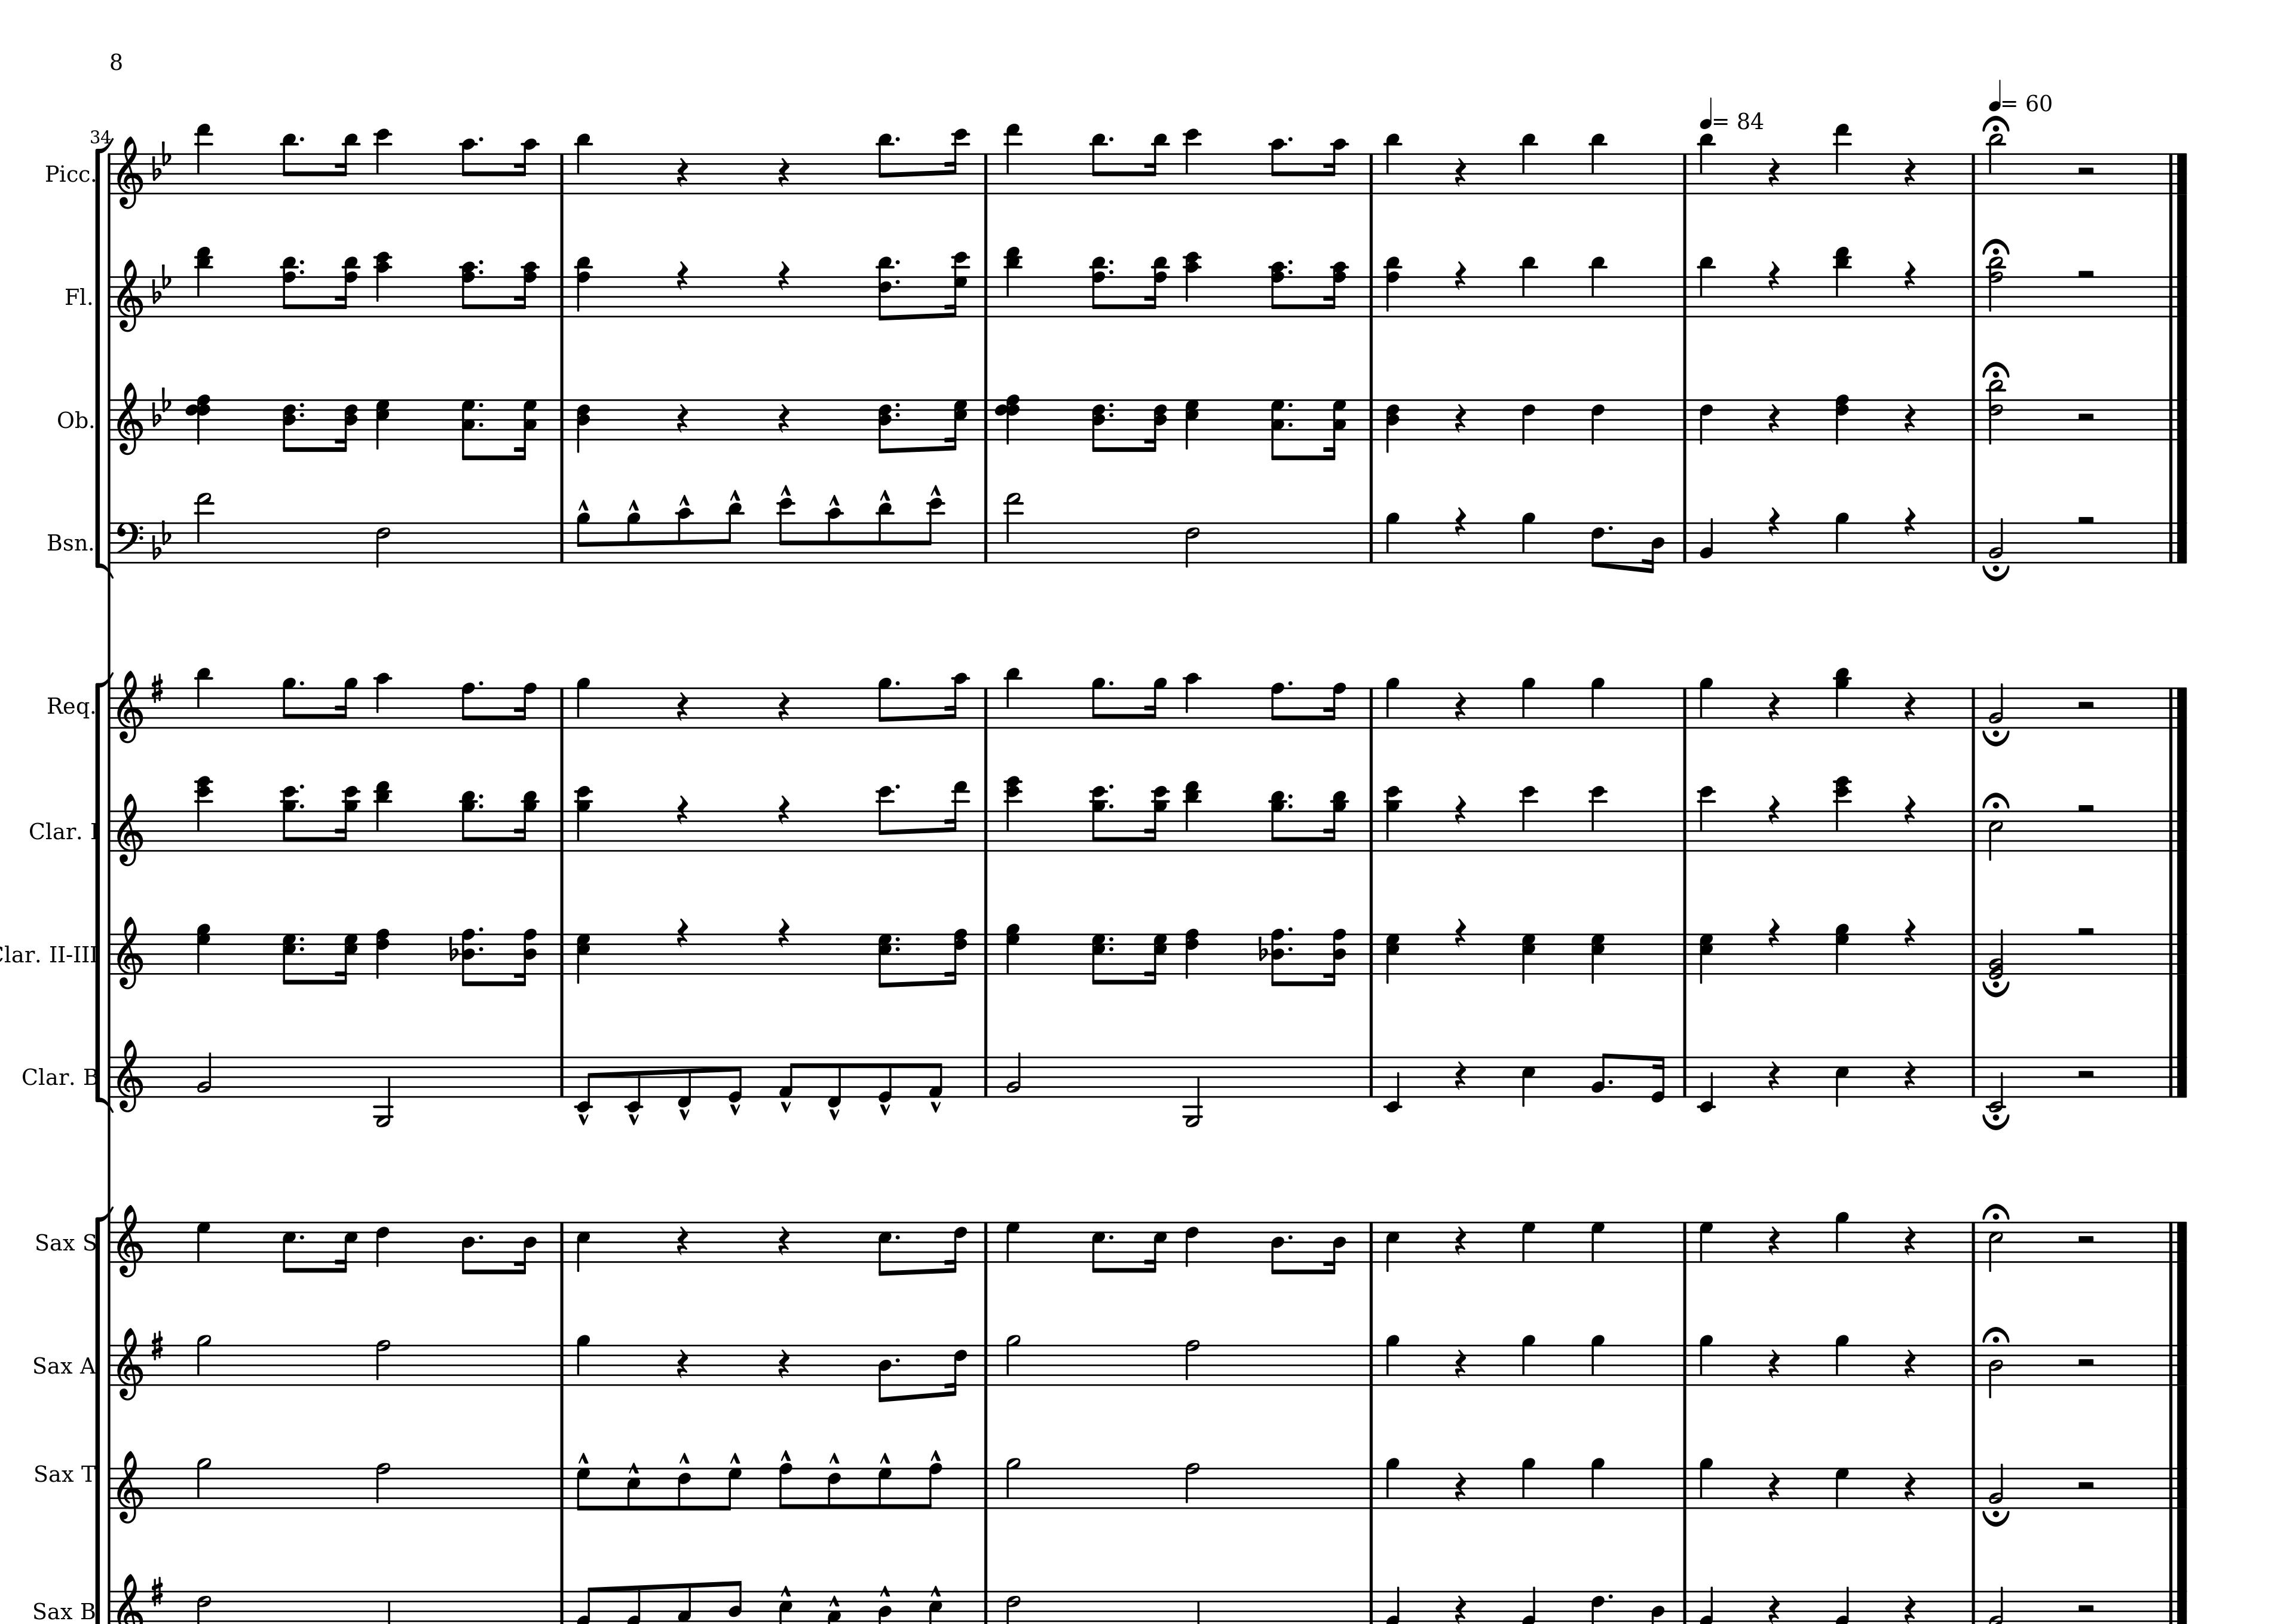0: (2040, 91, 2054, 112)
16_0: (1650, 1055, 1667, 1102)
16_10: (945, 671, 968, 729), (515, 137, 536, 195), (1325, 137, 1346, 195)
16_11: (1144, 132, 1168, 195), (336, 132, 358, 195)
16_11_13: (515, 791, 541, 852)
16_12: (945, 127, 968, 195)
16_13: (945, 779, 968, 852)
16_3_7: (513, 399, 539, 460), (1323, 399, 1347, 460)
16_4: (515, 1220, 536, 1274), (1325, 1220, 1346, 1274), (1644, 520, 1664, 573)
16_4_6: (334, 399, 358, 452), (1144, 399, 1168, 452)
16_4_8: (513, 928, 539, 988), (1323, 928, 1347, 986)
16_5: (336, 1220, 358, 1272), (1144, 1220, 1166, 1272)
16_5_7: (943, 397, 968, 452), (1144, 933, 1168, 984), (336, 933, 360, 984)
16_6: (945, 1341, 966, 1396), (945, 1220, 966, 1272)
16_6_8: (943, 928, 968, 984)
16_8: (513, 680, 536, 729), (1323, 680, 1346, 728)
16_8_10: (1323, 260, 1349, 318), (515, 262, 541, 318)
16_8_11: (1144, 257, 1168, 320), (336, 257, 358, 318)
16_9: (334, 675, 357, 729), (1144, 675, 1166, 729)
16_9_11: (1323, 789, 1349, 852)
16_9_12: (1144, 786, 1172, 852), (945, 250, 970, 318), (336, 786, 360, 852)
2_-2: (1987, 1053, 2004, 1109)
2_-5: (372, 1056, 395, 1128), (1182, 1055, 1203, 1127)
2_0_2: (1987, 928, 2006, 981)
2_11: (1987, 134, 2004, 195)
2_13: (195, 490, 213, 564)
2_2: (195, 1049, 213, 1098), (1005, 1049, 1022, 1098), (1987, 515, 2004, 562), (1987, 680, 2004, 728), (1987, 1461, 2004, 1508)
2_4: (1987, 1343, 2003, 1397)
2_5: (1987, 808, 2003, 861), (1987, 1222, 2003, 1271)
2_6: (1184, 520, 1200, 568), (376, 520, 390, 568)
2_6_11: (1987, 380, 2008, 445)
2_8: (374, 1459, 392, 1510), (374, 1338, 392, 1387), (1184, 1459, 1200, 1510), (1184, 1338, 1200, 1385)
2_8_11: (1985, 257, 2006, 318)
2_9: (195, 1455, 213, 1510), (195, 1332, 213, 1385), (1005, 1332, 1021, 1385), (1005, 1457, 1021, 1508)
4: (1750, 111, 1764, 130), (98, 127, 111, 144)
4_-2: (1384, 1053, 1402, 1113), (1697, 1055, 1715, 1113)
4_10: (374, 671, 392, 729), (1184, 671, 1200, 729)
4_10_12: (372, 250, 393, 318), (1182, 251, 1203, 318)
4_11: (574, 132, 592, 195), (1520, 132, 1537, 195), (1588, 132, 1606, 195), (1697, 132, 1715, 195), (1520, 255, 1537, 318), (1588, 255, 1606, 318), (1697, 255, 1715, 318), (195, 664, 211, 729), (1384, 132, 1400, 195), (1005, 666, 1021, 729)
4_11_13: (193, 244, 214, 318), (1832, 246, 1853, 318), (372, 780, 393, 852), (1003, 246, 1024, 316), (1184, 780, 1202, 852)
4_12: (1182, 128, 1202, 195), (374, 128, 392, 195), (1520, 786, 1537, 852), (1697, 786, 1715, 852), (1590, 786, 1606, 852)
4_12_14: (1001, 773, 1024, 852), (193, 775, 214, 852), (1834, 775, 1853, 852)
4_13: (1834, 121, 1852, 195), (1005, 490, 1022, 564), (1005, 123, 1022, 195), (195, 121, 211, 195)
4_2: (1699, 515, 1715, 564)
4_4_6: (576, 397, 592, 453), (1386, 397, 1400, 453)
4_5: (1520, 1055, 1535, 1109), (1834, 1055, 1850, 1109), (1384, 1220, 1400, 1272), (576, 1220, 590, 1272)
4_5_7: (374, 397, 392, 450), (1520, 933, 1537, 986), (1590, 933, 1607, 984), (1697, 932, 1713, 984), (1184, 399, 1200, 450), (1384, 932, 1400, 982), (574, 933, 590, 984)
4_6: (1697, 397, 1715, 445), (1520, 397, 1535, 445), (1590, 397, 1606, 445), (374, 1220, 390, 1267), (1184, 1220, 1198, 1267)
4_6_8: (1834, 394, 1852, 445), (1184, 928, 1200, 981), (374, 928, 390, 979)
4_7: (1520, 1220, 1537, 1262), (1697, 1220, 1715, 1262), (195, 1220, 211, 1264), (1005, 1220, 1021, 1264), (1590, 1220, 1606, 1264), (1834, 1466, 1850, 1508)
4_7_9: (1005, 923, 1022, 975), (1836, 923, 1850, 977), (197, 923, 211, 975)
4_8_11: (574, 255, 592, 318), (1384, 255, 1402, 318)
4_9: (1384, 510, 1400, 564), (1834, 510, 1850, 564), (1520, 675, 1535, 729), (1834, 1332, 1850, 1387), (1520, 510, 1535, 562), (1384, 675, 1400, 728), (1590, 675, 1606, 728), (1834, 1211, 1850, 1264), (1384, 1332, 1400, 1385), (1520, 1455, 1535, 1508), (576, 675, 590, 729), (1521, 1332, 1535, 1387), (1590, 1332, 1604, 1387), (1699, 675, 1713, 728), (576, 1332, 590, 1385), (1699, 1332, 1713, 1385), (1386, 1455, 1400, 1508), (1590, 1455, 1604, 1508), (1699, 1455, 1713, 1508)
4_9_10: (1384, 784, 1404, 852)
4_9_11: (1832, 666, 1853, 729)
4_9_12: (574, 786, 594, 852)
4_th: (186, 394, 213, 445)
6: (2025, 93, 2040, 112)
8: (109, 51, 123, 70), (1737, 111, 1750, 130), (90, 127, 100, 144)
8_-1: (676, 1055, 692, 1107), (826, 1055, 841, 1107)
8_-2: (574, 1055, 596, 1111), (624, 1055, 641, 1111)
8_0: (877, 1055, 894, 1102), (727, 1055, 743, 1102)
8_1: (778, 1055, 798, 1097), (928, 1055, 943, 1097)
8_10: (675, 508, 692, 564), (826, 508, 843, 564), (460, 137, 476, 195), (1270, 137, 1286, 195)
8_11: (720, 503, 743, 564), (877, 130, 894, 197), (281, 130, 297, 195), (1091, 132, 1107, 195), (877, 503, 892, 564)
8_12: (921, 496, 943, 564), (877, 784, 894, 852), (776, 497, 794, 564)
8_2: (1590, 1051, 1609, 1097)
8_3_7: (1270, 399, 1286, 462), (462, 397, 476, 462)
8_4: (877, 1343, 892, 1403), (460, 1220, 474, 1274), (1270, 1220, 1284, 1274)
8_4_6: (1091, 399, 1107, 453), (878, 399, 892, 453)
8_4_8: (1270, 928, 1286, 988), (460, 928, 476, 988)
8_5: (877, 1220, 892, 1278), (281, 1220, 295, 1272), (1091, 1220, 1105, 1272), (625, 1468, 641, 1512)
8_5_7: (877, 933, 894, 988), (1091, 933, 1108, 984), (281, 933, 297, 984)
8_6: (676, 1466, 692, 1512), (826, 1466, 841, 1510), (1590, 520, 1604, 568)
8_6_11: (875, 257, 892, 322)
8_6_8: (281, 399, 297, 453)
8_7: (720, 1466, 743, 1512), (576, 1466, 592, 1512), (877, 1466, 892, 1510)
8_8: (921, 1461, 942, 1510), (460, 682, 476, 729), (1270, 682, 1284, 729), (778, 1462, 792, 1510)
8_8_10: (458, 260, 478, 318), (1268, 260, 1288, 318)
8_8_11: (279, 255, 299, 318), (1089, 255, 1108, 318)
8_9: (281, 675, 297, 729), (574, 511, 590, 564), (625, 511, 641, 564), (877, 677, 892, 729), (1091, 675, 1105, 729)
8_9_11: (460, 789, 480, 854), (1268, 789, 1288, 852)
8_9_12: (1089, 784, 1108, 852), (279, 786, 299, 852)
B_F: (149, 139, 172, 181), (149, 385, 170, 425), (151, 518, 172, 559), (151, 262, 170, 302)
Bracke: (90, 678, 114, 1100), (93, 1206, 118, 1620), (95, 139, 114, 578)
Bsn: (47, 531, 88, 555)
Cl: (21, 1063, 47, 1088)
Fclef: (114, 520, 144, 564)
Fermata_above: (1980, 1200, 2011, 1222), (1980, 562, 2013, 582), (1980, 977, 2013, 997), (1980, 359, 2010, 380), (1980, 1323, 2010, 1345), (1980, 1111, 2011, 1130), (1982, 728, 2013, 745), (1980, 1508, 2011, 1526), (1982, 237, 2010, 257), (1982, 791, 2010, 810), (1980, 114, 2010, 132)
Final_barline: (2166, 684, 2187, 728), (2164, 1341, 2185, 1385), (2166, 274, 2187, 316), (2164, 520, 2185, 562), (2164, 808, 2185, 851), (2166, 932, 2187, 974), (2164, 1055, 2185, 1097), (2166, 1220, 2187, 1262), (2164, 1466, 2185, 1508), (2168, 151, 2187, 195), (2166, 397, 2185, 439), (2166, 1587, 2185, 1622)
Fl: (63, 285, 88, 306)
Flat: (448, 935, 458, 963), (1258, 935, 1268, 963)
Gclef: (114, 1448, 146, 1524), (114, 1037, 144, 1113), (116, 258, 144, 332), (116, 670, 144, 743), (116, 793, 144, 866), (116, 916, 144, 990), (116, 1204, 144, 1278), (116, 1325, 144, 1399), (116, 135, 142, 209), (116, 381, 142, 455)
Marcato_above: (576, 1450, 590, 1466), (928, 482, 942, 496), (778, 482, 792, 496), (727, 487, 741, 501), (676, 492, 690, 506), (826, 492, 840, 506), (576, 497, 590, 511), (727, 1450, 741, 1464), (727, 1102, 743, 1114), (877, 1102, 892, 1114), (826, 1106, 841, 1118), (827, 1450, 840, 1466), (878, 487, 891, 501), (778, 1098, 792, 1111), (929, 1098, 942, 1113), (676, 1107, 690, 1120), (778, 1448, 792, 1461), (678, 1450, 690, 1464), (878, 1450, 891, 1464), (627, 1459, 639, 1473), (778, 1584, 791, 1598), (627, 497, 639, 510), (929, 1448, 942, 1461), (929, 1584, 940, 1598)
Ob: (56, 406, 90, 432)
Picc: (42, 160, 93, 183)
Rec: (47, 696, 90, 717)
Rests2: (2075, 511, 2096, 526), (2075, 923, 2096, 937), (2075, 1067, 2096, 1081), (2075, 1478, 2096, 1492), (2075, 1234, 2097, 1246), (2075, 267, 2096, 279), (2075, 801, 2096, 814), (2075, 1355, 2096, 1367), (2075, 1601, 2096, 1613), (2075, 165, 2097, 176), (2075, 700, 2097, 710), (2075, 411, 2096, 422)
Rests4: (1453, 258, 1469, 292), (1453, 504, 1469, 538), (1453, 689, 1469, 722), (1765, 1223, 1781, 1257), (1453, 1346, 1469, 1380), (1453, 1469, 1469, 1503), (1765, 691, 1781, 722), (1767, 791, 1781, 826), (675, 155, 689, 188), (1453, 155, 1467, 188), (1767, 155, 1781, 188), (1903, 155, 1917, 188), (675, 258, 689, 292), (1767, 258, 1781, 292), (1453, 401, 1467, 434), (1767, 504, 1781, 538), (675, 689, 689, 722), (1903, 689, 1917, 722), (776, 793, 791, 826), (1453, 791, 1467, 824), (675, 916, 689, 949), (1453, 1058, 1467, 1091), (1903, 1058, 1917, 1091), (675, 1223, 689, 1257), (776, 1223, 791, 1257), (1453, 1223, 1467, 1257), (1903, 1223, 1917, 1257), (675, 1346, 689, 1380), (1767, 1346, 1781, 1380), (1903, 1346, 1917, 1380), (1903, 1469, 1917, 1503), (776, 156, 791, 188), (776, 258, 791, 290), (1903, 258, 1917, 290), (675, 402, 689, 434), (776, 402, 791, 434), (1767, 402, 1781, 434), (1903, 402, 1917, 434), (1903, 504, 1917, 536), (776, 691, 791, 722), (675, 793, 689, 824), (1903, 793, 1917, 824), (776, 916, 791, 947), (1453, 916, 1467, 947), (1767, 916, 1781, 947), (1903, 916, 1917, 947), (1767, 1060, 1781, 1091), (776, 1348, 791, 1380), (1767, 1471, 1781, 1503)
Sax: (33, 1230, 77, 1255), (30, 1353, 74, 1378), (33, 1462, 76, 1487), (30, 1599, 74, 1620)
Sharp: (149, 1575, 165, 1606), (149, 671, 163, 703), (149, 1329, 163, 1360)
Single_barline: (1678, 397, 1692, 439), (555, 685, 569, 728), (555, 1220, 569, 1262), (555, 1343, 569, 1385), (555, 1466, 569, 1508), (1678, 153, 1692, 193), (1966, 153, 1980, 193), (1678, 276, 1692, 316), (555, 276, 569, 316), (555, 399, 569, 439), (978, 399, 993, 439), (1966, 522, 1980, 562), (978, 687, 993, 728), (1678, 687, 1692, 728), (555, 810, 569, 851), (1678, 810, 1692, 851), (1966, 810, 1980, 851), (555, 933, 569, 974), (1678, 933, 1692, 974), (1966, 933, 1980, 974), (1966, 1056, 1980, 1097), (1678, 1222, 1692, 1262), (1363, 1345, 1377, 1385), (1678, 1345, 1692, 1385), (1678, 1468, 1692, 1508), (1363, 1468, 1377, 1508), (1967, 685, 1980, 728), (980, 1220, 993, 1262), (1365, 153, 1377, 193), (555, 153, 567, 193), (980, 153, 993, 193), (1365, 276, 1377, 316), (1967, 276, 1980, 316), (980, 276, 993, 316), (1365, 399, 1377, 439), (1967, 399, 1980, 439), (555, 522, 567, 562), (1365, 522, 1377, 562), (1678, 522, 1690, 562), (1365, 687, 1377, 728), (1365, 810, 1377, 851), (980, 810, 993, 851), (980, 933, 993, 974), (1365, 933, 1377, 974), (104, 1056, 116, 1097), (555, 1056, 567, 1097), (1365, 1056, 1377, 1097), (1678, 1056, 1690, 1097), (980, 1056, 993, 1097), (1365, 1222, 1377, 1262), (1967, 1222, 1980, 1262), (980, 1345, 993, 1385), (1967, 1345, 1980, 1385), (980, 1468, 993, 1508), (1967, 1468, 1980, 1508), (555, 1589, 569, 1624), (105, 685, 116, 728), (105, 1220, 116, 1262), (104, 276, 114, 316), (105, 810, 116, 851), (105, 933, 116, 974), (105, 1345, 116, 1385), (105, 1468, 116, 1508), (1967, 1589, 1980, 1622), (1678, 1591, 1690, 1624), (980, 522, 991, 561), (1365, 1591, 1377, 1622), (105, 153, 114, 193), (105, 399, 114, 439), (105, 522, 114, 562), (980, 1589, 991, 1622), (105, 1587, 114, 1620)
Speed4: (1699, 95, 1730, 128), (1989, 77, 2017, 111)
Staccatissimo: (827, 1592, 840, 1608), (878, 1584, 891, 1598)
dot: (1284, 800, 1295, 808), (297, 134, 306, 142), (1107, 134, 1116, 142), (297, 257, 306, 265), (892, 257, 901, 265), (297, 267, 306, 276), (476, 267, 485, 276), (1107, 267, 1116, 276), (1286, 267, 1295, 276), (892, 276, 901, 285), (476, 401, 485, 410), (1286, 401, 1295, 410), (1107, 401, 1116, 410), (297, 410, 306, 418), (476, 420, 485, 429), (1286, 420, 1295, 429), (1606, 522, 1614, 531), (297, 782, 306, 791), (1107, 782, 1116, 791), (476, 791, 485, 800), (1286, 924, 1295, 933), (476, 924, 485, 933), (297, 933, 306, 942), (892, 933, 901, 942), (1107, 933, 1116, 942), (297, 944, 306, 953), (476, 944, 485, 953), (1107, 944, 1116, 953), (1286, 944, 1295, 953), (1606, 1076, 1614, 1084), (892, 1232, 901, 1241), (297, 1232, 306, 1241), (476, 1232, 485, 1241), (1107, 1232, 1116, 1241), (1286, 1232, 1295, 1241), (892, 1355, 901, 1364), (476, 135, 485, 142), (892, 135, 901, 142), (1286, 135, 1295, 142), (1107, 257, 1114, 265), (476, 258, 485, 265), (1286, 258, 1295, 265), (297, 401, 306, 408), (892, 411, 901, 418), (1107, 411, 1116, 418), (1107, 678, 1116, 685), (476, 678, 485, 685), (892, 678, 901, 685), (1286, 678, 1295, 685), (297, 801, 306, 808), (1107, 801, 1116, 808), (476, 801, 485, 808), (892, 944, 901, 951), (1606, 1592, 1614, 1599), (894, 401, 901, 408), (297, 678, 304, 685), (894, 782, 901, 789), (1286, 791, 1293, 798)
